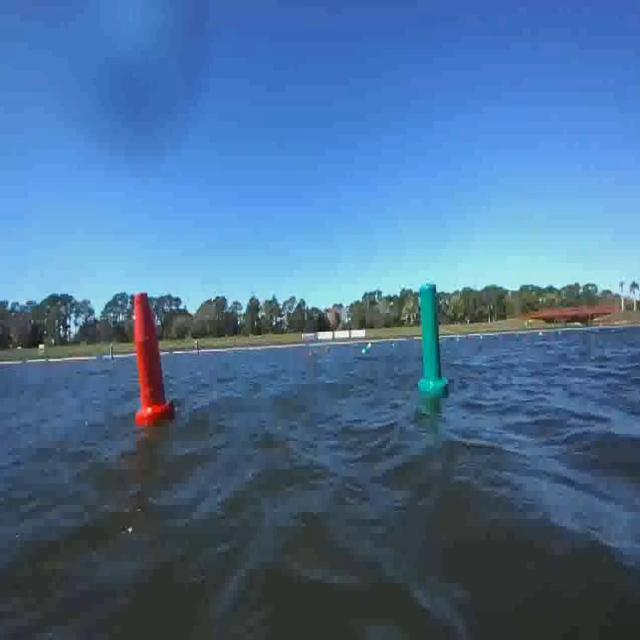green-column-buoy: (417, 280, 448, 396)
red-column-buoy: (133, 290, 173, 426)
